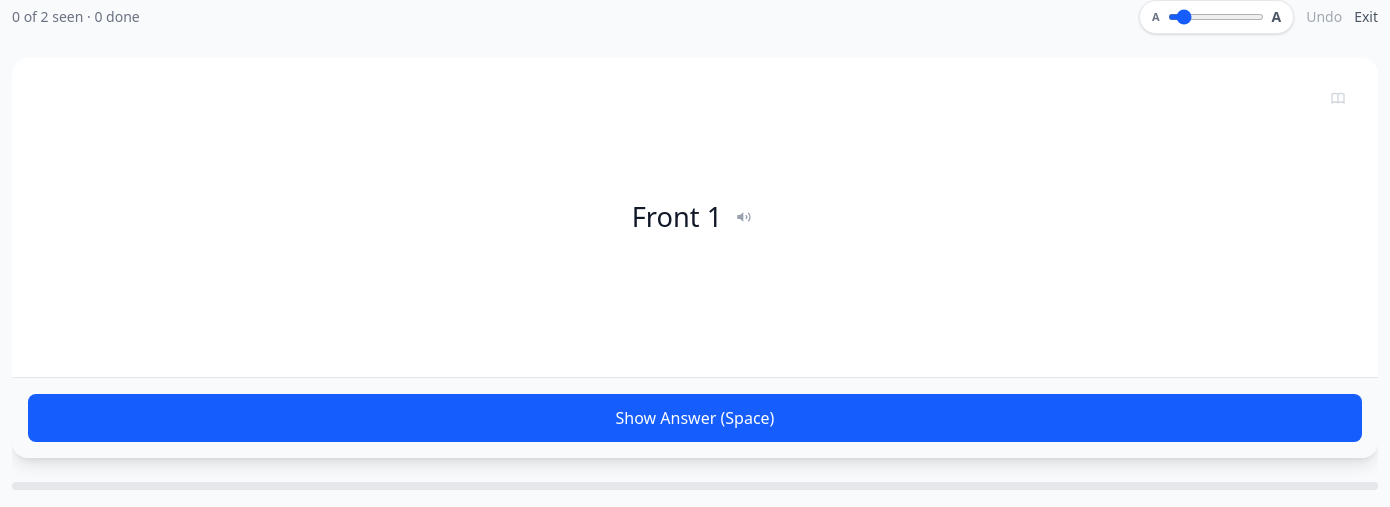
stuck disabled button repro › question button on the NEXT card is disabled although never clicked
Click the button titled "play pronunciation": (744, 218) x1=730 y1=206 x2=758 y2=230
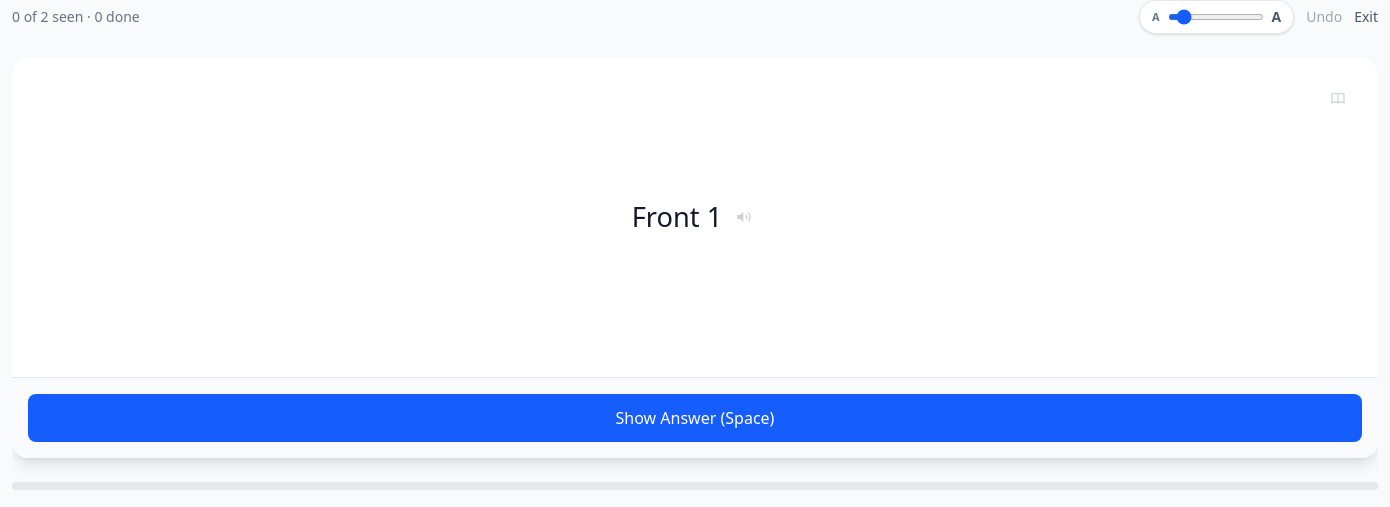
Expected: the button titled "play pronunciation" is disabled, x1=730 y1=206 x2=758 y2=230
Note: Flip (Space), then rate Good — clip is still playing (no `ended`).
Press Space
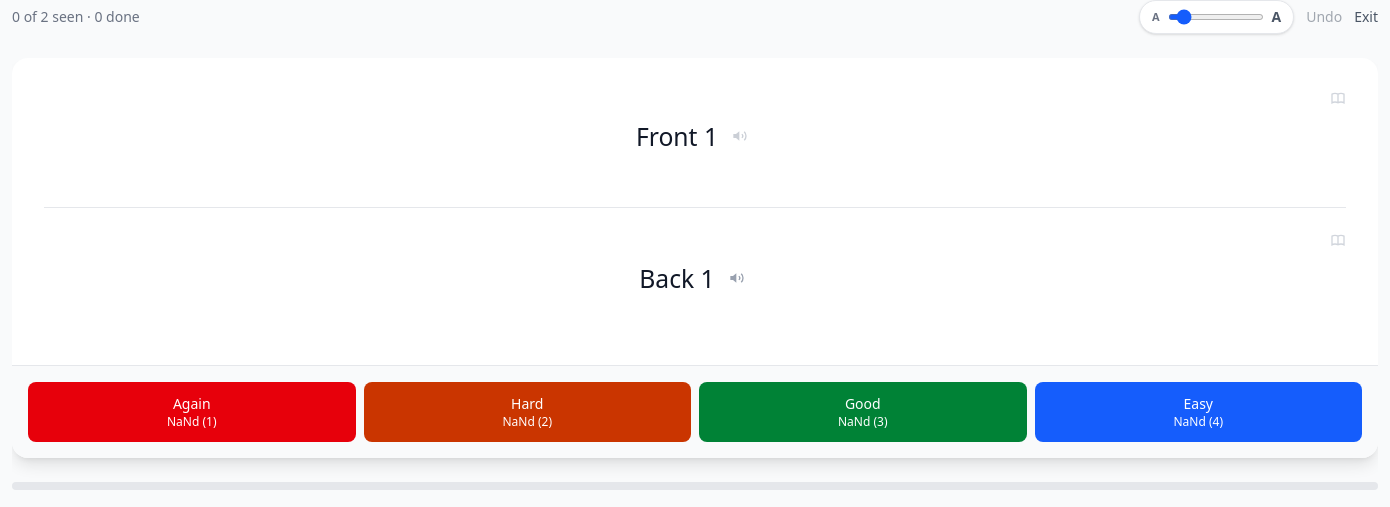
Expected: the text "Back 1" is shown, x1=639 y1=260 x2=715 y2=297
Click the text "Good": (863, 404) x1=845 y1=394 x2=881 y2=413
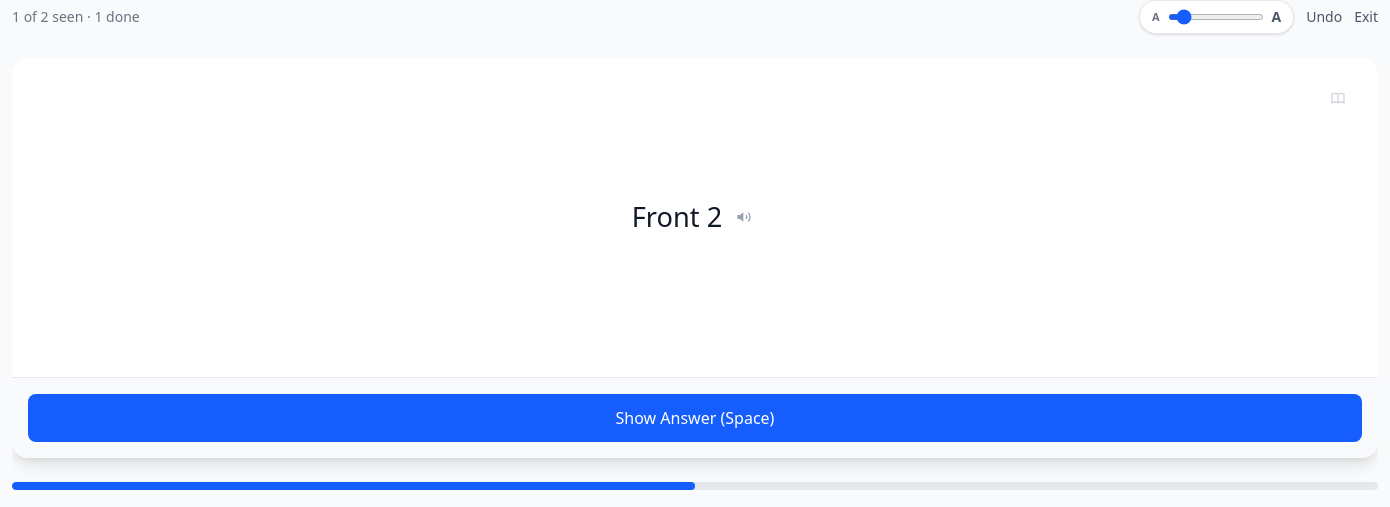
Expected: the text "Front 2" is shown, x1=632 y1=197 x2=722 y2=238
Expected: the button titled "play pronunciation" is enabled, x1=730 y1=206 x2=758 y2=230
